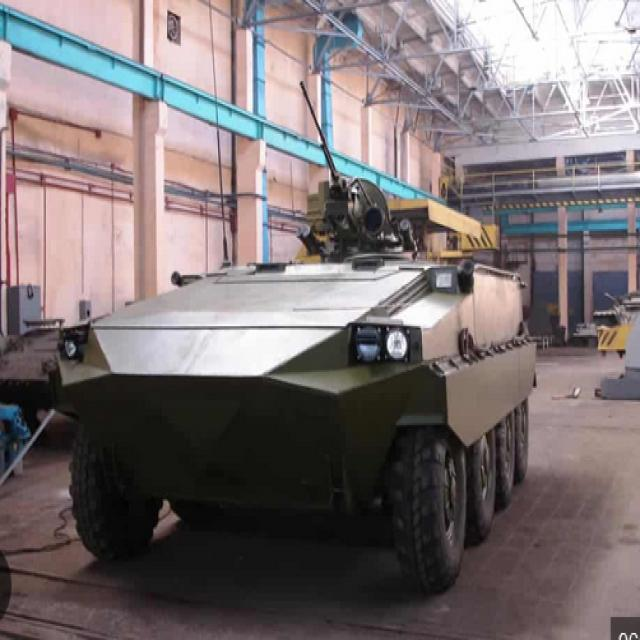MIL_APC: (51, 218, 551, 574)
